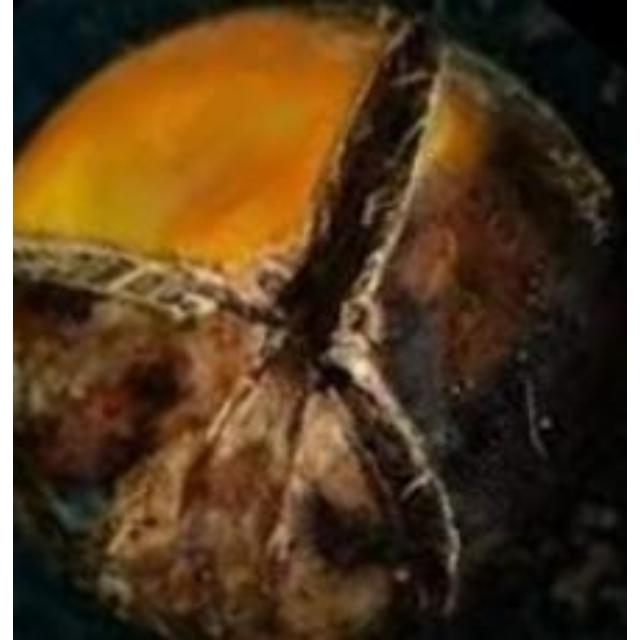damaged: (13, 0, 625, 637)
